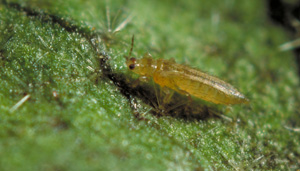Thrips: (119, 45, 244, 122)
